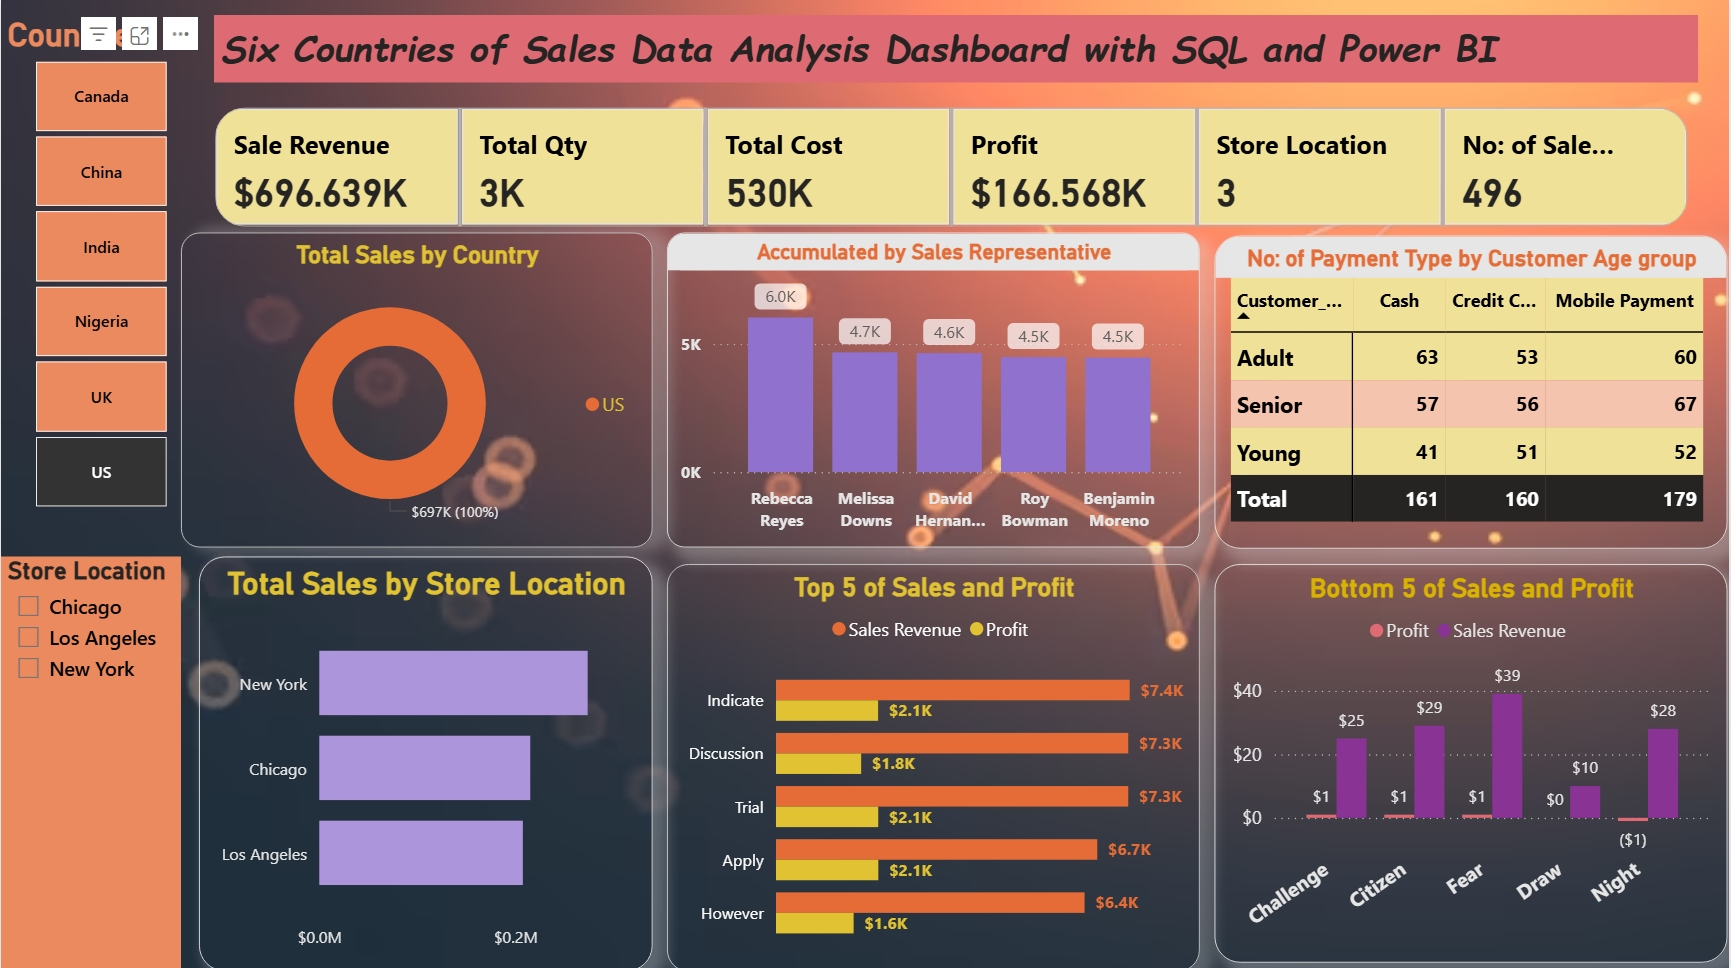

The page's visual inventory and layout, read from the dashboard file:
{"tool":"powerbi","page":{"name":"Page 1","canvas":[1280,720],"ordinal":0},"visuals":[{"type":"slicer","title":"Countries","fields":{"Values":["6countriessaledatabase allsalesdata.Country"]},"box":[0,10.6,146.9,371],"z":0},{"type":"cardVisual","fields":{"Data":["Measurement.Total Sales","Measurement.TotalQty","Sum(6countriessaledatabase allsalesdata.TotalCost)","Sum(6countriessaledatabase allsalesdata.Profit)","Count(6countriessaledatabase allsalesdata.Store_Location)","Count(6countriessaledatabase allsalesdata.Sales_Rep)"]},"box":[133.3,74.2,1146.3,98.4],"z":1000},{"type":"slicer","title":"Store Location","fields":{"Values":["6countriessaledatabase allsalesdata.Store_Location"]},"box":[0,411.9,133.3,307.4],"z":2000},{"type":"donutChart","fields":{"Category":["6countriessaledatabase allsalesdata.Country"],"Y":["Measurement.Total Sales"]},"box":[132.9,172.7,349.3,233.5],"z":3000},{"type":"pivotTable","title":"No: of Payment Type by Customer Age group","fields":{"Rows":["6countriessaledatabase allsalesdata.Customer_Age_Group"],"Columns":["6countriessaledatabase allsalesdata.Payment_Method"],"Values":["CountNonNull(6countriessaledatabase allsalesdata.Payment_Method)"]},"box":[899.4,174.1,380.1,231.7],"z":4000},{"type":"clusteredBarChart","title":"Top 5 of Sales and Profit","fields":{"Category":["6countriessaledatabase allsalesdata.Product_Name"],"Y":["Measurement.Total Sales","Sum(6countriessaledatabase allsalesdata.Profit)"]},"box":[493.5,417.6,394.8,301.8],"z":5000},{"type":"clusteredColumnChart","title":"Bottom 5 of Sales and Profit","fields":{"Category":["6countriessaledatabase allsalesdata.Product_Name"],"Y":["Sum(6countriessaledatabase allsalesdata.Profit)","Measurement.Total Sales"]},"box":[899.4,417.9,380.1,295.3],"z":6000},{"type":"barChart","title":"Total Sales by Store Location","fields":{"Category":["6countriessaledatabase allsalesdata.Store_Location"],"Y":["Measurement.Total Sales"]},"box":[146.2,411.9,336,307.5],"z":7000},{"type":"lineStackedColumnComboChart","title":"Accumulated by Sales Representative","fields":{"Category":["6countriessaledatabase allsalesdata.Sales_Rep"],"Y":["Measurement.Total YTD"]},"box":[493.5,172.7,394.8,233.5],"z":8000},{"type":"textbox","box":[157.5,10.6,1099.3,50],"z":9000}]}

Visuals, with their boxes on the page's 1280x720 design canvas (x1, y1, x2, y2). These are canvas units, not pixel positions in the 1731x968 screenshot, which may show the page scaled, cropped or inside an application window:
"Countries" slicer: <bbox>0, 11, 147, 382</bbox>
cardVisual - Measurement.Total Sales x Measurement.TotalQty: <bbox>133, 74, 1280, 173</bbox>
"Store Location" slicer: <bbox>0, 412, 133, 719</bbox>
donutChart - 6countriessaledatabase allsalesdata.Country x Measurement.Total Sales: <bbox>133, 173, 482, 406</bbox>
"No: of Payment Type by Customer Age group" pivotTable: <bbox>899, 174, 1280, 406</bbox>
"Top 5 of Sales and Profit" clusteredBarChart: <bbox>494, 418, 888, 719</bbox>
"Bottom 5 of Sales and Profit" clusteredColumnChart: <bbox>899, 418, 1280, 713</bbox>
"Total Sales by Store Location" barChart: <bbox>146, 412, 482, 719</bbox>
"Accumulated by Sales Representative" lineStackedColumnComboChart: <bbox>494, 173, 888, 406</bbox>
textbox: <bbox>158, 11, 1257, 61</bbox>
